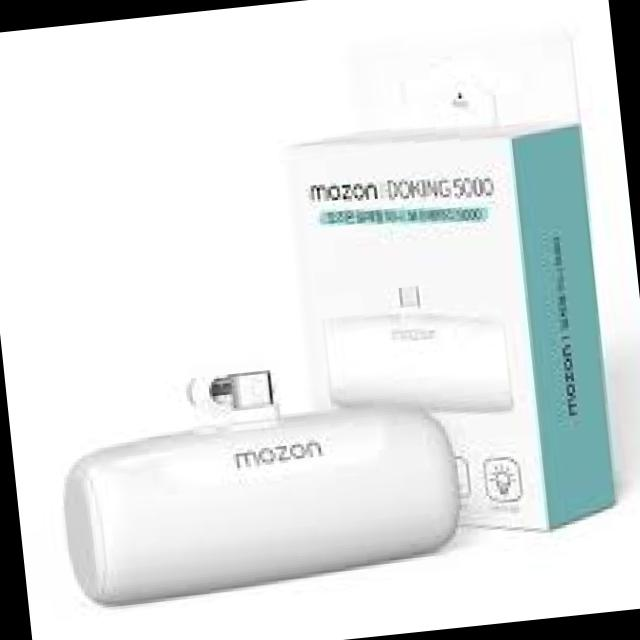portable-charger: (49, 340, 473, 611), (319, 270, 523, 434)
